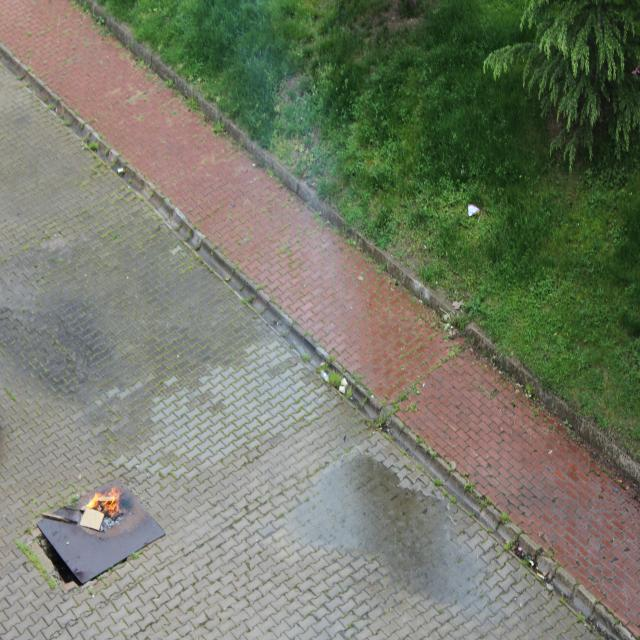fire: (92, 478, 121, 521)
